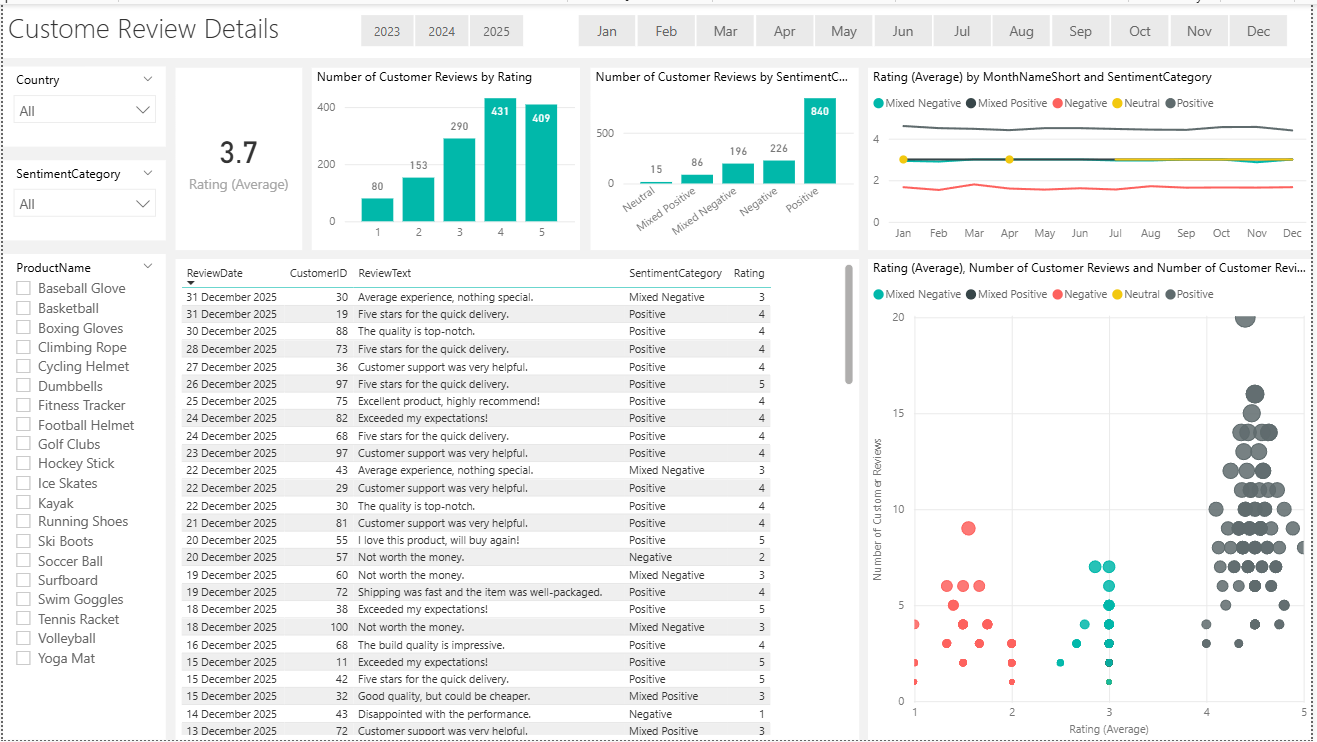

Layout of this report page (visuals, bound fields, positions):
{"tool":"powerbi","page":{"name":"Customer Review Details","canvas":[1280,720],"ordinal":3},"visuals":[{"type":"textbox","box":[0,0,1280,52.6],"z":0},{"type":"slicer","fields":{"Values":["dim_products.ProductName"]},"box":[0,244.2,159.3,475.3],"z":1000},{"type":"card","fields":{"Values":["_Calculations.Rating (Average)"]},"box":[168.5,61.9,123.8,178.5],"z":2000},{"type":"slicer","fields":{"Values":["Calendar.MonthNameShort"]},"box":[536.8,4.1,743.2,44.4],"z":3000},{"type":"lineChart","fields":{"Category":["Calendar.MonthNameShort"],"Y":["_Calculations.Rating (Average)"],"Series":["fact_customer_reviews_with_sentiment.SentimentCategory"]},"box":[846.2,62,434.1,178.4],"z":4000},{"type":"slicer","fields":{"Values":["Calendar.Year"]},"box":[324.1,4.1,208.5,44.4],"z":5000},{"type":"tableEx","fields":{"Values":["fact_customer_reviews_with_sentiment.ReviewDate","fact_customer_reviews_with_sentiment.CustomerID","fact_customer_reviews_with_sentiment.ReviewText","fact_customer_reviews_with_sentiment.SentimentCategory","fact_customer_reviews_with_sentiment.Rating"]},"box":[168.5,249.5,668.4,470.8],"z":6000},{"type":"columnChart","fields":{"Category":["fact_customer_reviews_with_sentiment.Rating"],"Y":["_Calculations.Number of Customer Reviews"]},"box":[302.4,62,262.4,178.4],"z":7000},{"type":"columnChart","fields":{"Category":["fact_customer_reviews_with_sentiment.SentimentCategory"],"Y":["_Calculations.Number of Customer Reviews"]},"box":[574.3,62,262.4,178.4],"z":8000},{"type":"slicer","fields":{"Values":["dim_customers.Country"]},"box":[0,61.4,159.3,78.3],"z":9000},{"type":"slicer","fields":{"Values":["fact_customer_reviews_with_sentiment.SentimentCategory"]},"box":[0,152.8,159.3,78.3],"z":10000},{"type":"scatterChart","fields":{"Category":["dim_customers.CustomerID"],"Series":["fact_customer_reviews_with_sentiment.SentimentCategory"],"X":["_Calculations.Rating (Average)"],"Y":["_Calculations.Number of Customer Reviews"],"Size":["_Calculations.Number of Customer Reviews"]},"box":[846,249.5,434.4,470.8],"z":11000}]}

Visuals, with their boxes in screenshot pixels (x1, y1, x2, y2), scaled from the page's 1280x720 canvas onto the 1317x742 screenshot:
textbox: bbox=[0, 0, 1316, 54]
slicer - dim_products.ProductName: bbox=[0, 252, 164, 741]
card - _Calculations.Rating (Average): bbox=[173, 64, 301, 248]
slicer - Calendar.MonthNameShort: bbox=[552, 4, 1316, 50]
lineChart - Calendar.MonthNameShort x _Calculations.Rating (Average): bbox=[871, 64, 1316, 248]
slicer - Calendar.Year: bbox=[333, 4, 548, 50]
tableEx - fact_customer_reviews_with_sentiment.ReviewDate x fact_customer_reviews_with_sentiment.CustomerID: bbox=[173, 257, 861, 741]
columnChart - fact_customer_reviews_with_sentiment.Rating x _Calculations.Number of Customer Reviews: bbox=[311, 64, 581, 248]
columnChart - fact_customer_reviews_with_sentiment.SentimentCategory x _Calculations.Number of Customer Reviews: bbox=[591, 64, 861, 248]
slicer - dim_customers.Country: bbox=[0, 63, 164, 144]
slicer - fact_customer_reviews_with_sentiment.SentimentCategory: bbox=[0, 157, 164, 238]
scatterChart - dim_customers.CustomerID x fact_customer_reviews_with_sentiment.SentimentCategory: bbox=[870, 257, 1316, 741]
